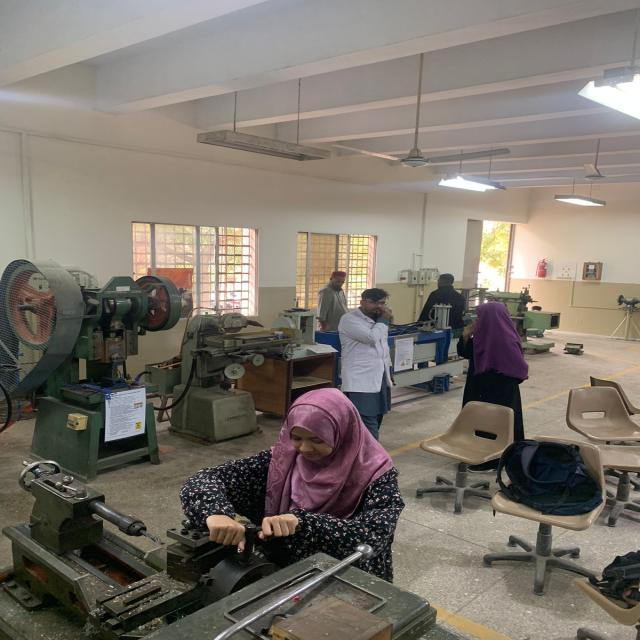labcoat: (335, 305, 395, 394)
